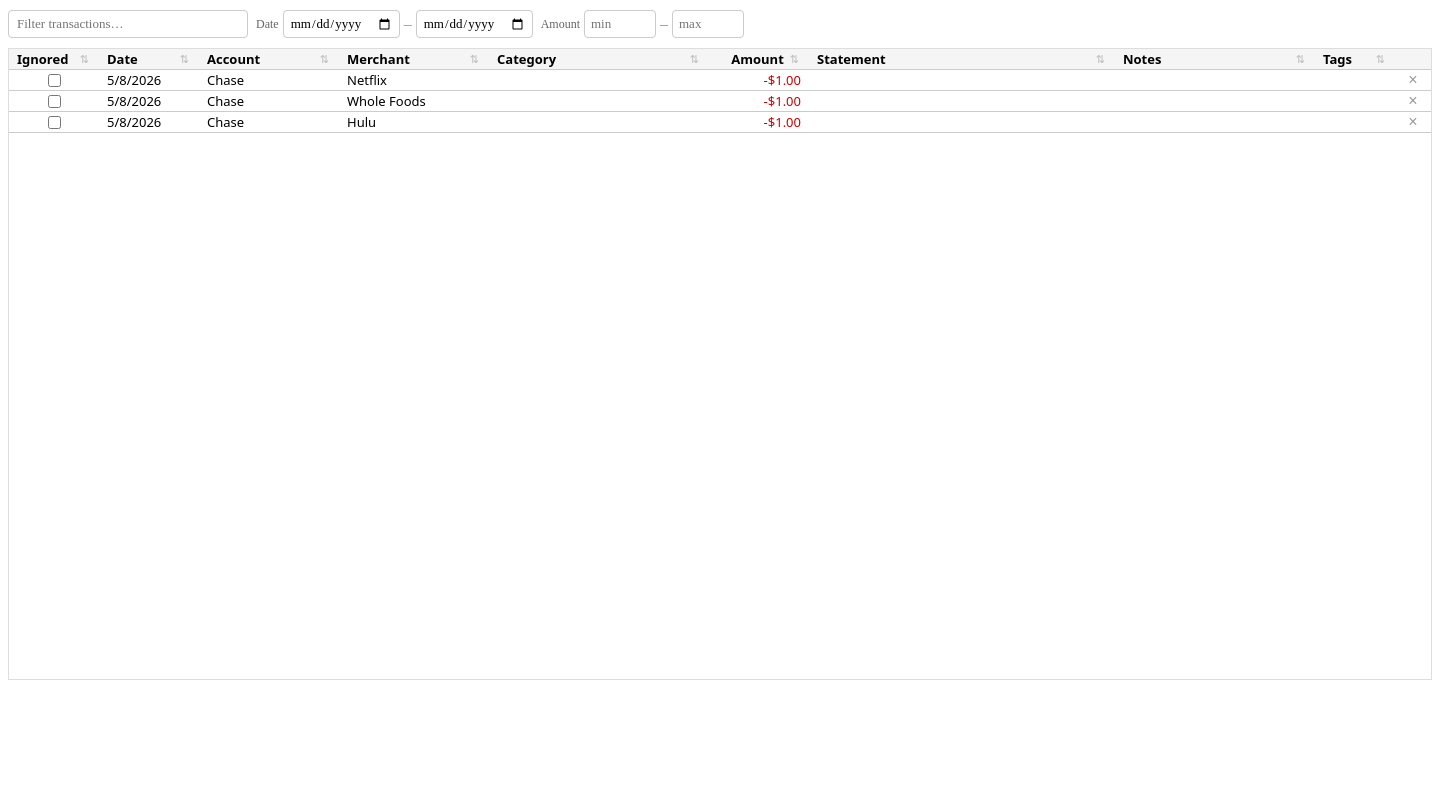
Scenario: Grid › typing in the filter narrows the displayed rows
This screenshot has width=1440, height=810.
expect the text "Whole Foods" is shown: met, box [347,92,426,110]
Type "flix" into the field labelled "Filter transactions" at (128, 24), box [8,10,248,38]
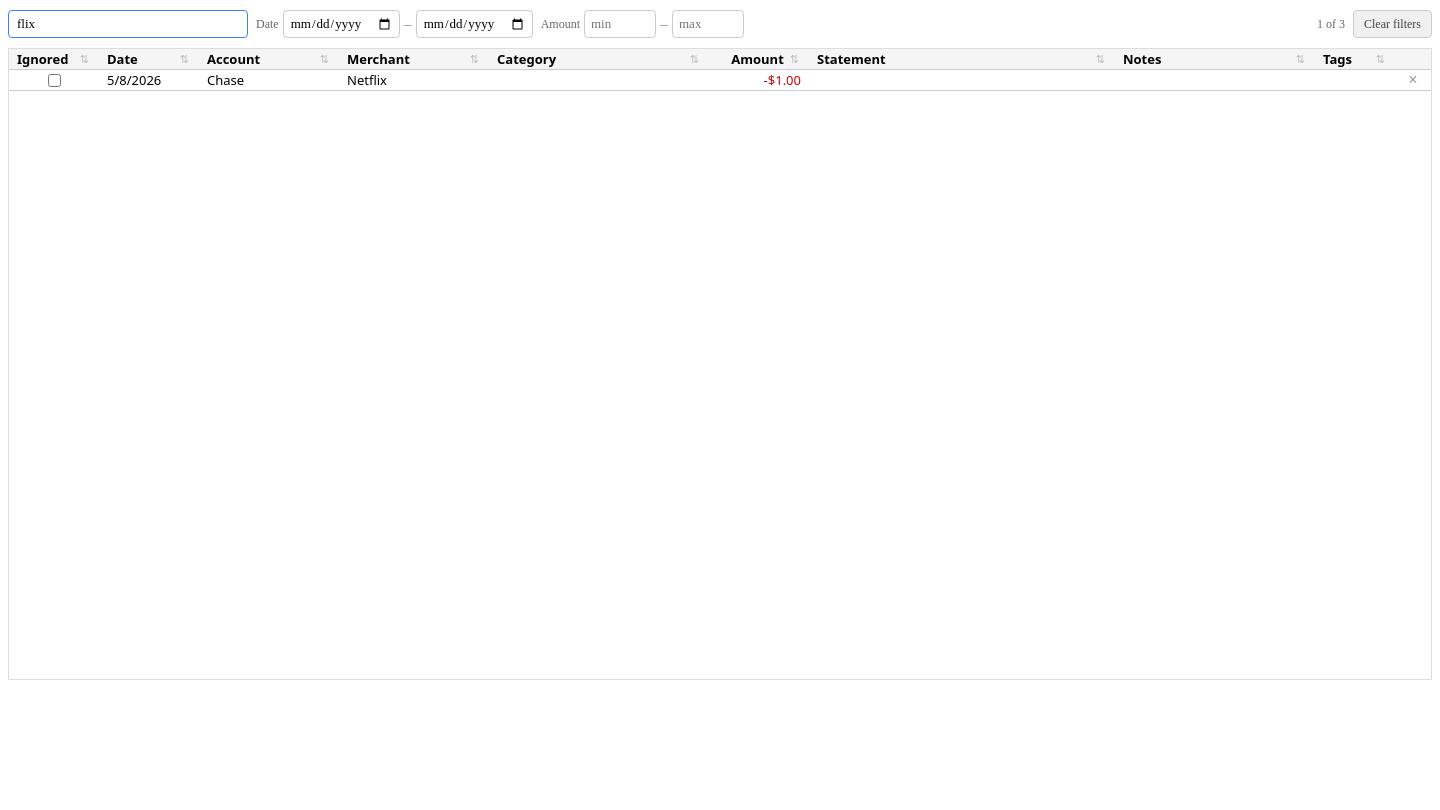
expect the text "Netflix" is shown: met, box [347,71,387,89]
expect the text "Whole Foods" is gone: met
expect the text "Hulu" is gone: met
